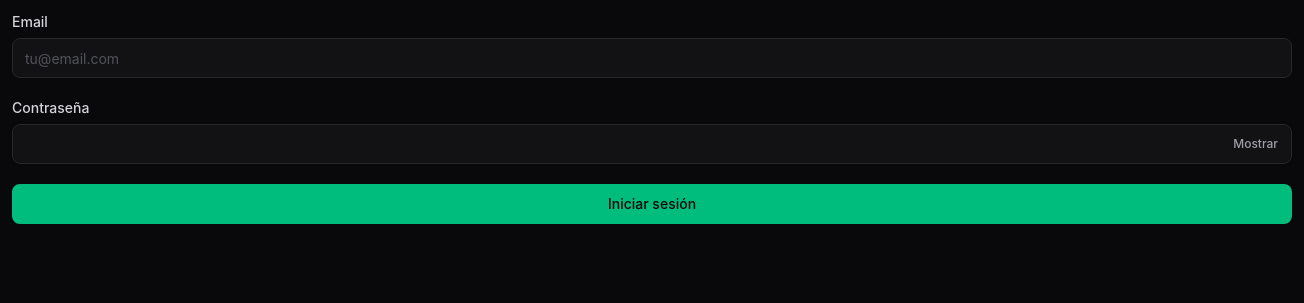
LoginForm › muestra el error de credenciales de la API
Type "ana@example.com" into the field labelled "Email" at (652, 58), box [12,38,1292,78]
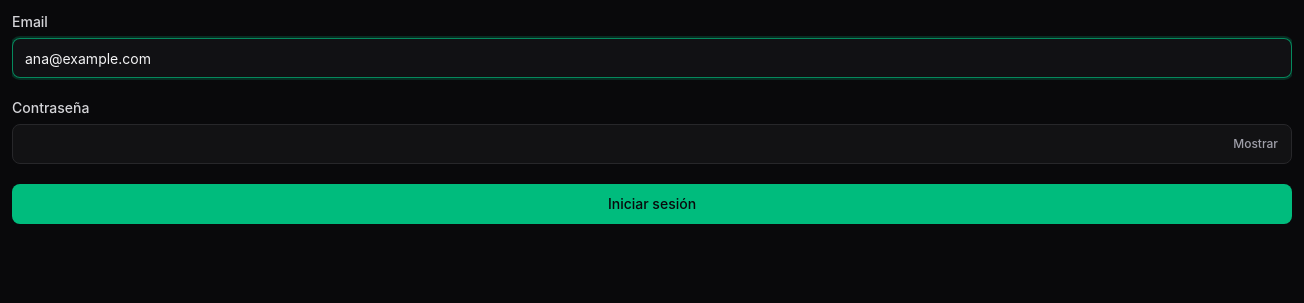
Type "incorrecta" into the password field labelled "Contraseña" at (652, 144), box [12,124,1292,164]
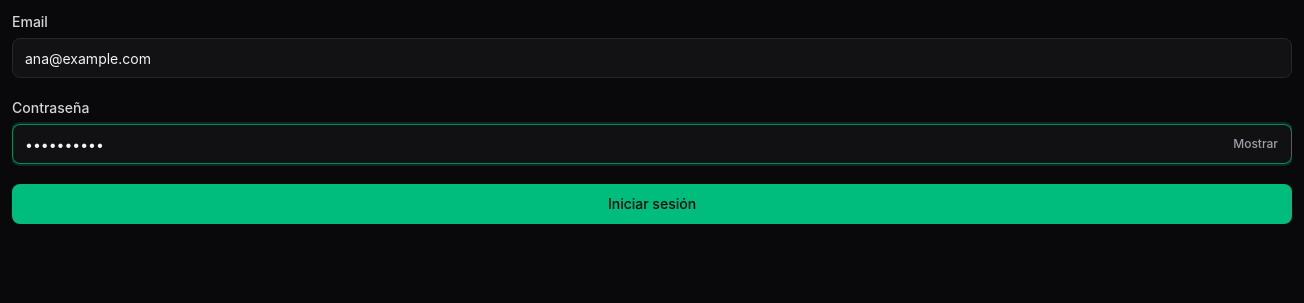
Click the button "Iniciar sesión" at (652, 204), box [12,184,1292,224]
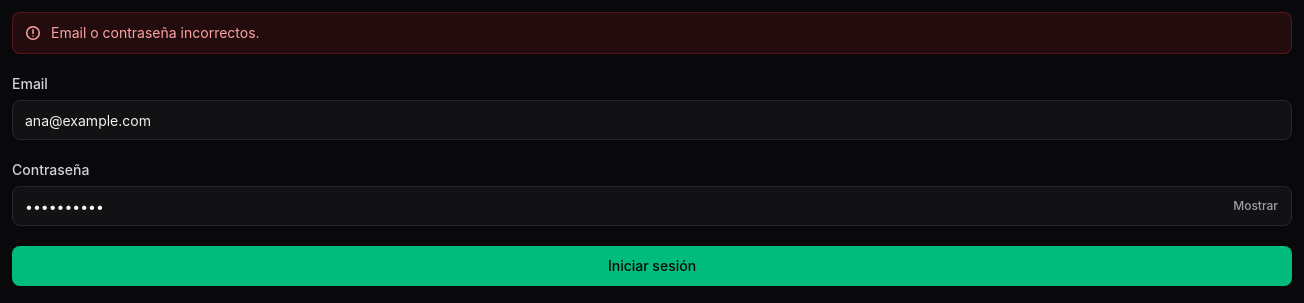
Check: the message reads "Email o contraseña incorrectos.", box [51,24,260,41]
